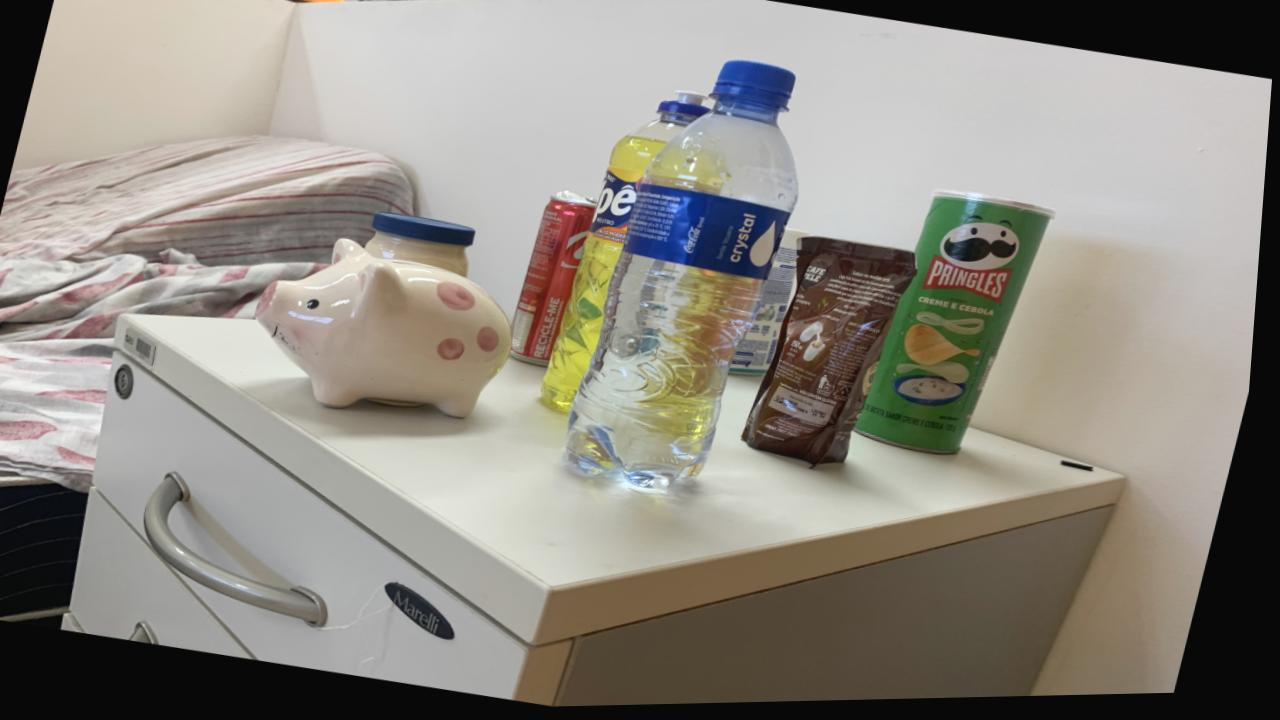Cleaner-Cleanup_Items: (734, 232, 812, 378)
Coffee-Pantry_Items: (749, 240, 920, 469)
Coke-Drinks: (516, 193, 599, 368)
Detergent-Cleanup_Items: (546, 94, 712, 416)
Mayonnaise-Pantry_Items: (367, 213, 479, 279)
Pig_Safe-Miscellaneous: (260, 240, 518, 419)
Pringles-Snacks: (862, 195, 1057, 458)
Water_Bottle-Drinks: (572, 64, 802, 494)
